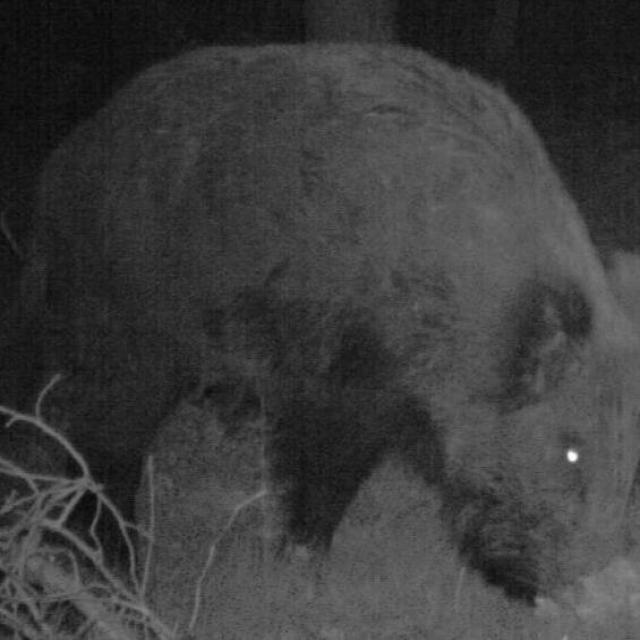pig: (24, 31, 640, 610)
